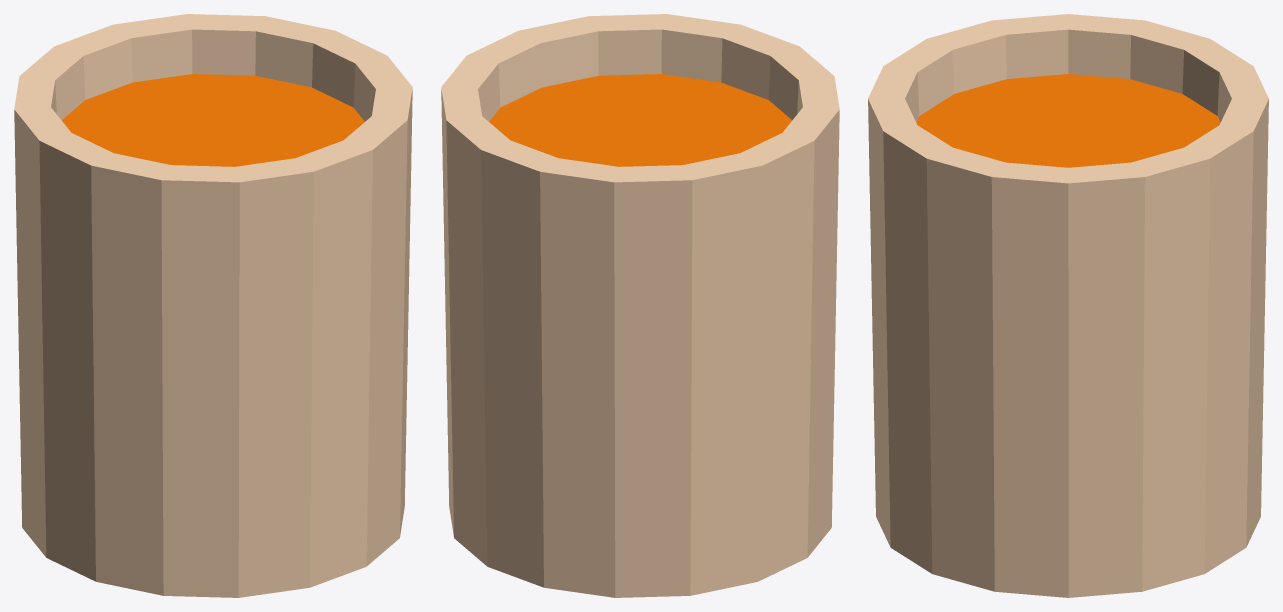
File: Cocktail_03.fbx
3 renders of one model, left to right at view 1: azimuth 30°, elevation 25°; view 2: azimuth 150°, elevation 25°; view 3: azimuth 270°, elevation 25°, orthographic.
Parts seen in each view (by area): view 1: Cocktail_03; view 2: Cocktail_03; view 3: Cocktail_03.
Boxes of the visible parts, bbox=[...] form: Cocktail_03: bbox=[14, 14, 412, 597]; Cocktail_03: bbox=[441, 14, 839, 597]; Cocktail_03: bbox=[868, 14, 1268, 597].
Bounding box in the file's own units: 8.65 × 9.95 × 8.65.
